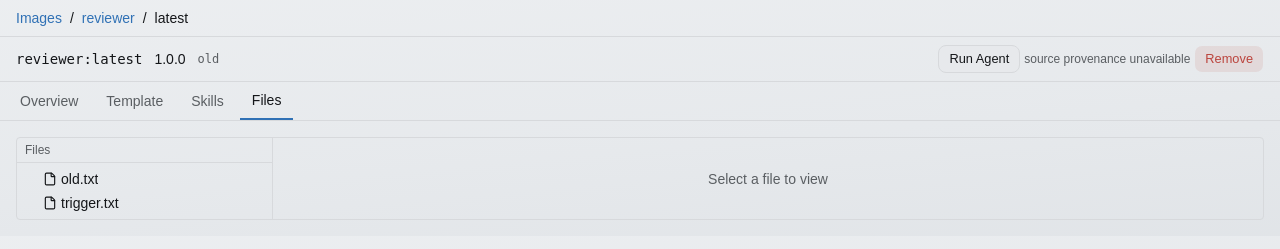
it: discards the old file listing and ignores late file errors after a rebuild
Click the button "old.txt". click: (142, 179)
box: [17,167,268,191]
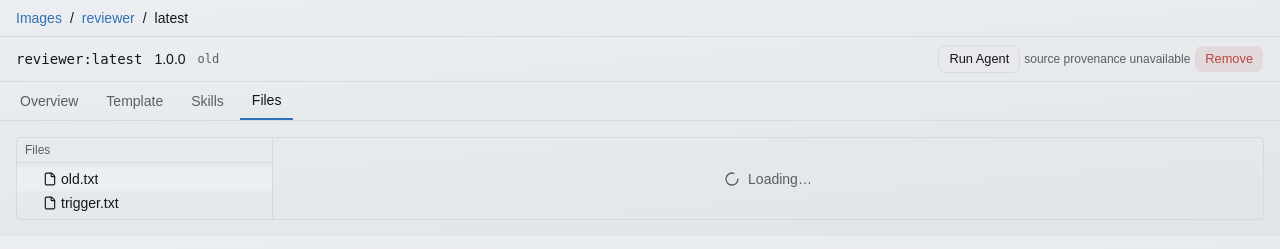
Click the button "trigger.txt". click: (142, 203)
box: [17,191,268,215]
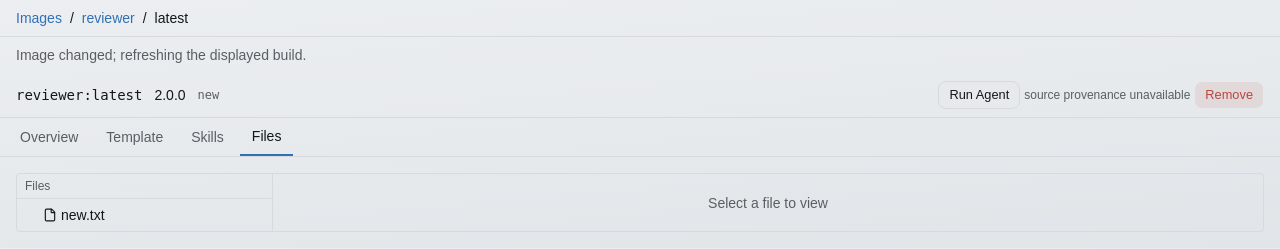
Click the button "new.txt". click: (142, 215)
box: [17,203,268,227]
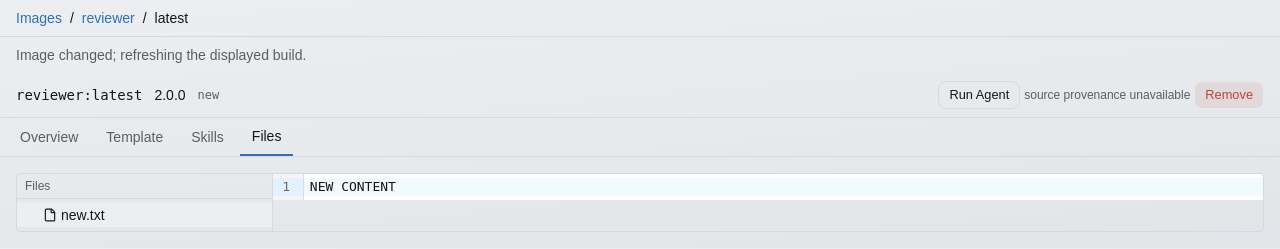
Expected: the button "old.txt" is not shown
Result: the text "2.0.0" is shown at [154,85,186,105]
Result: the text "NEW CONTENT" is shown at [304,178,1263,196]
